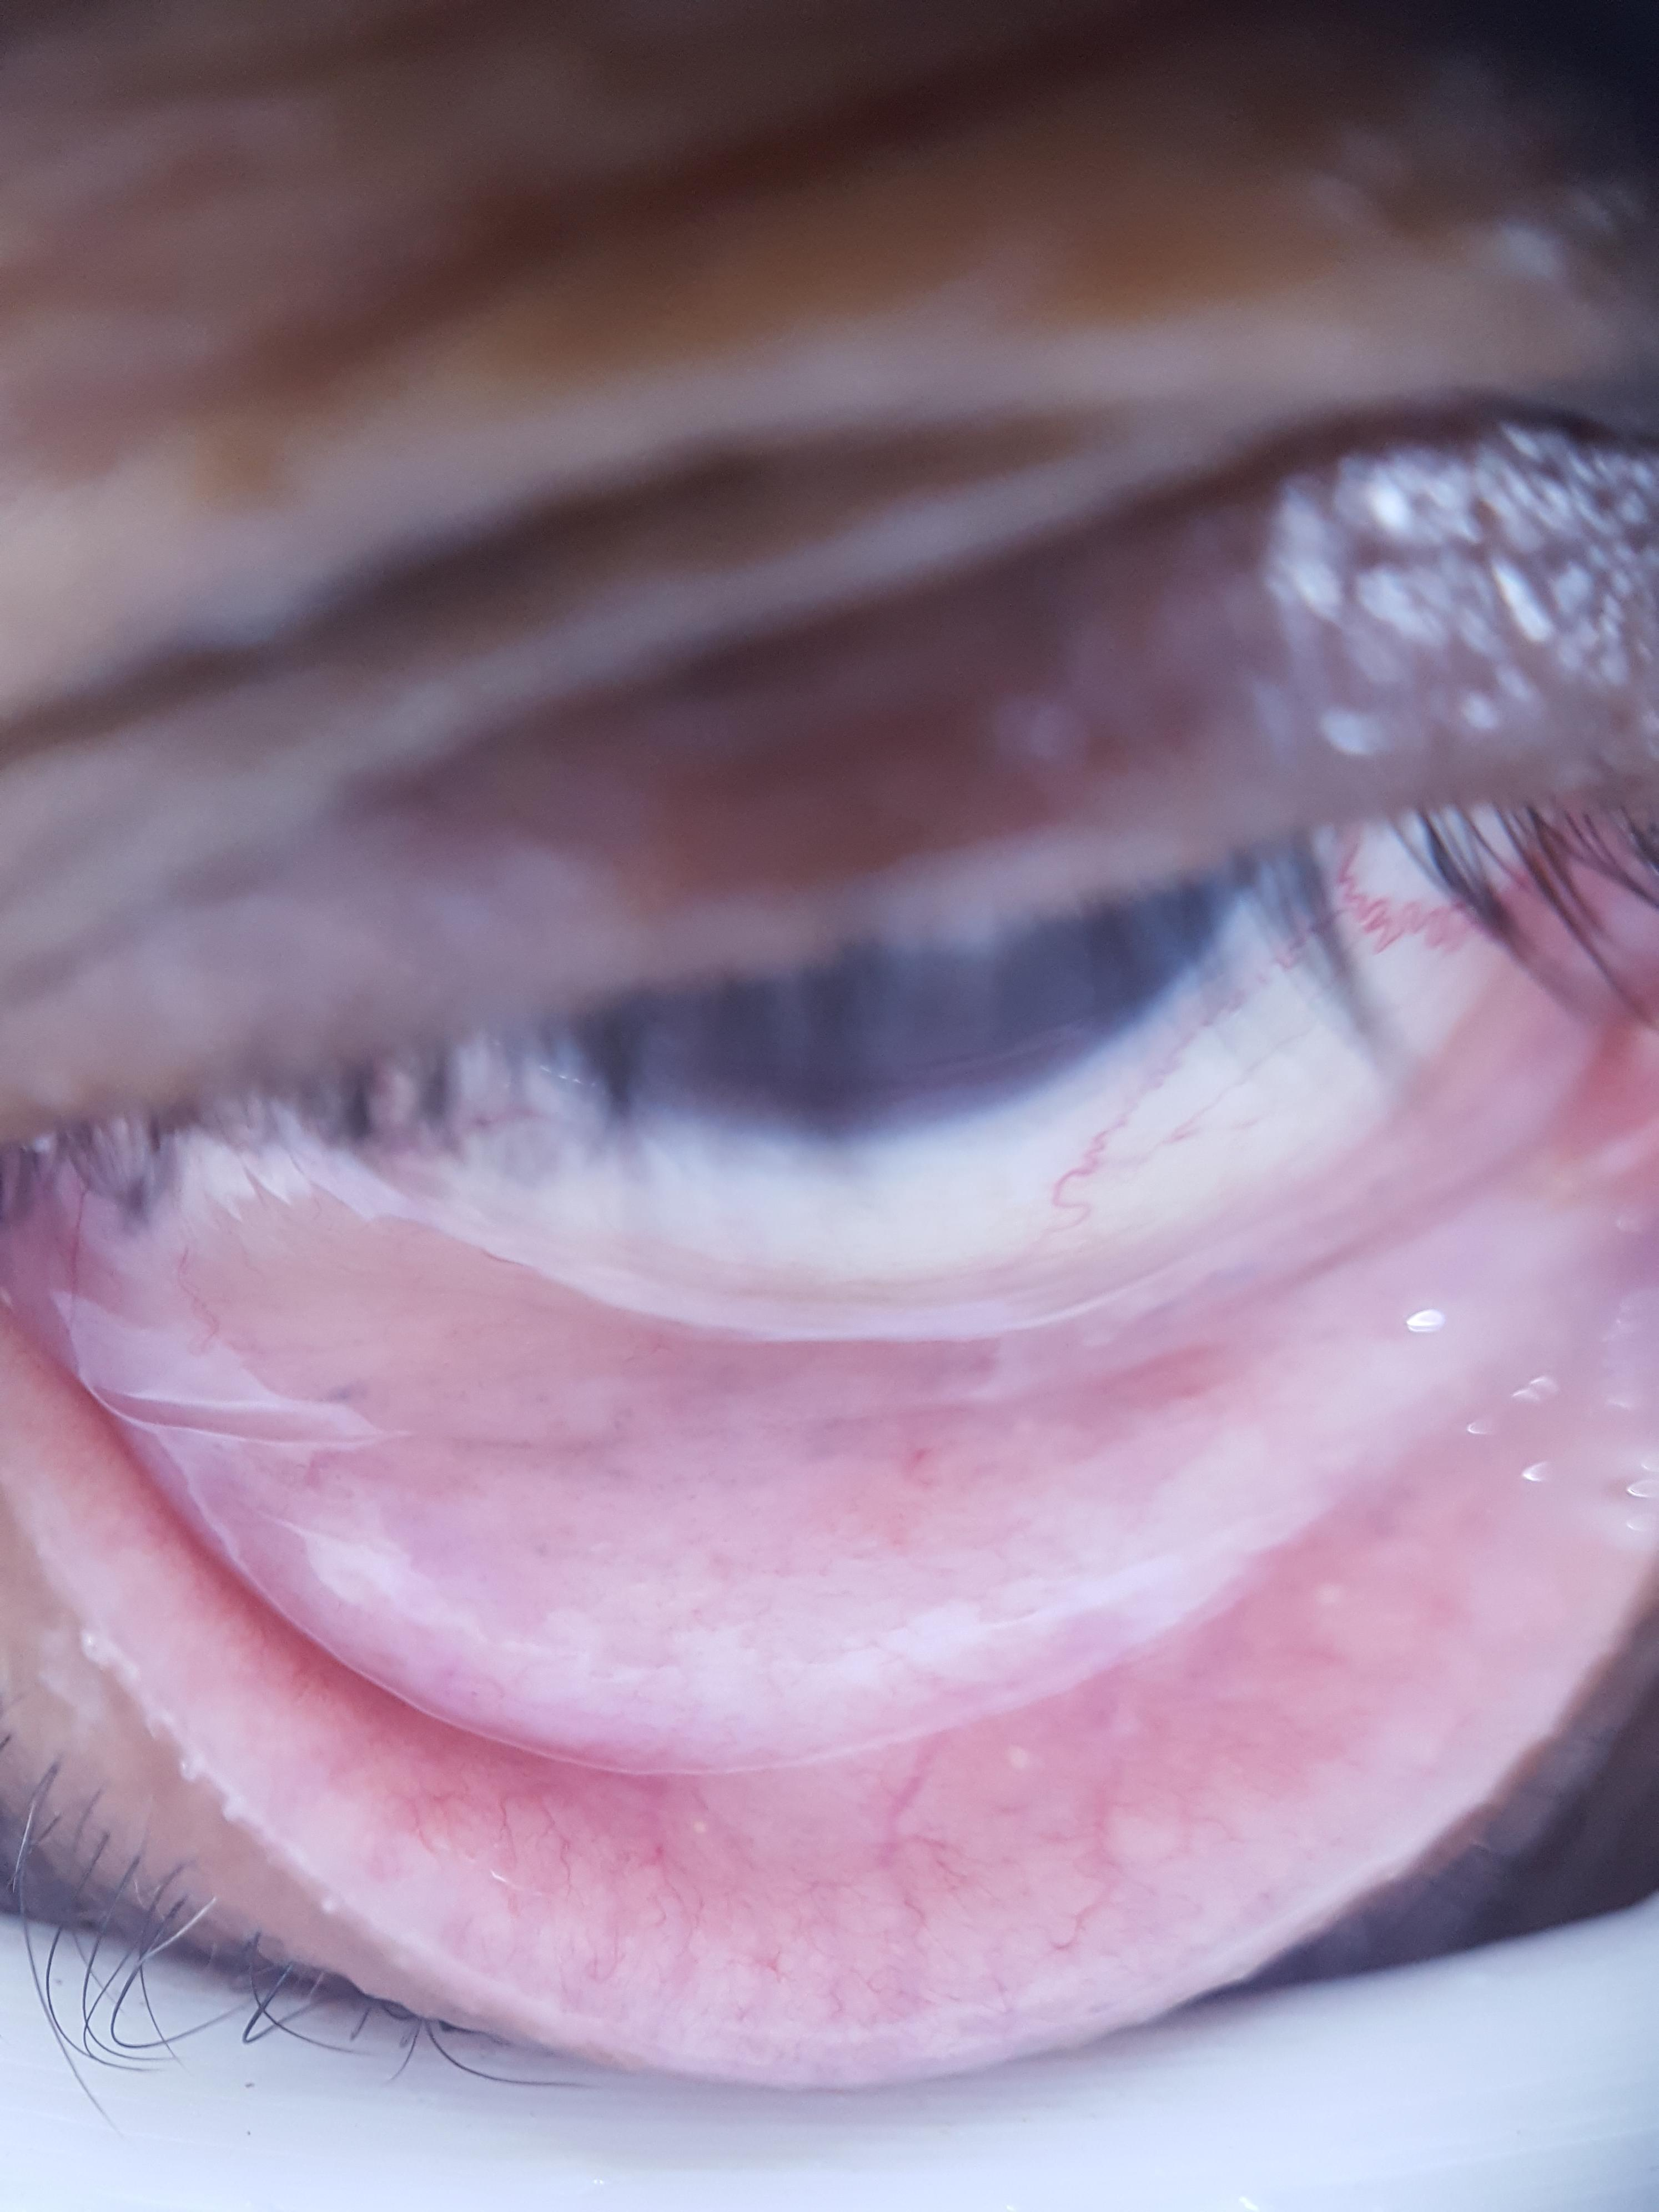forniceal: (30, 1143, 1598, 1773)
forniceal_palpebral: (26, 1134, 1612, 2000)
palpebral: (52, 1237, 1603, 1993)
